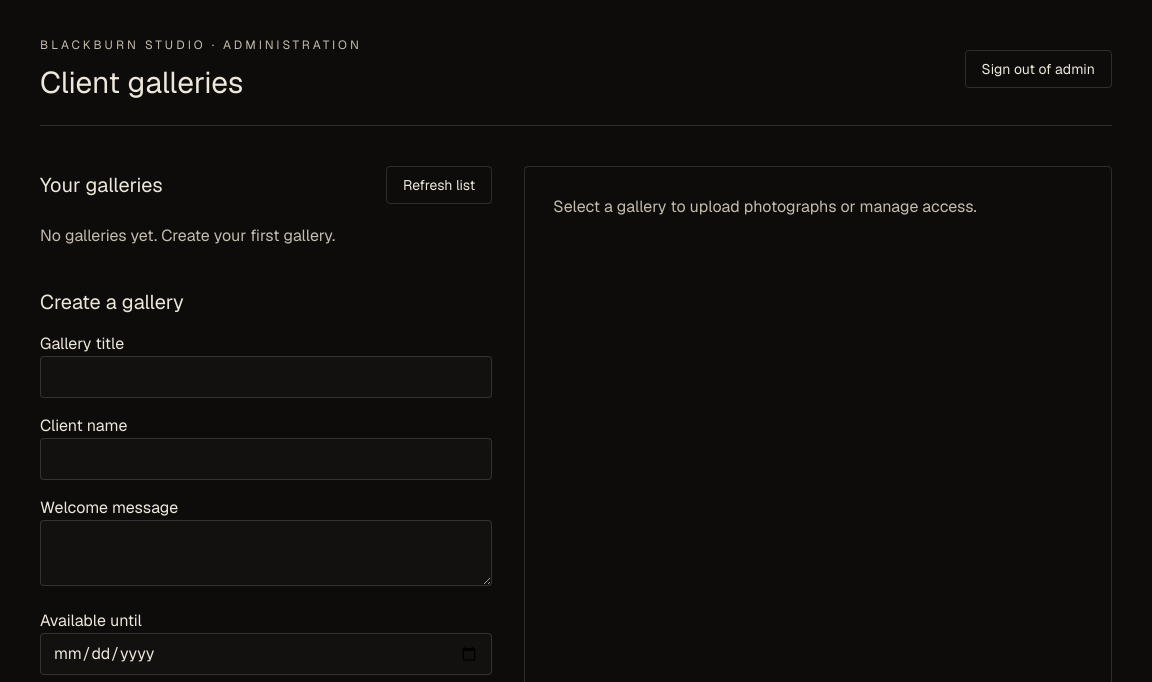
Scenario: copies independently of an API request and restores manual copying when clipboard permission stalls
Expected: the heading "Create a gallery" is shown, left=40, top=289, right=184, bottom=315
Type "Portraits" into the field labelled "Gallery title" at (266, 377), box left=40, top=356, right=492, bottom=398
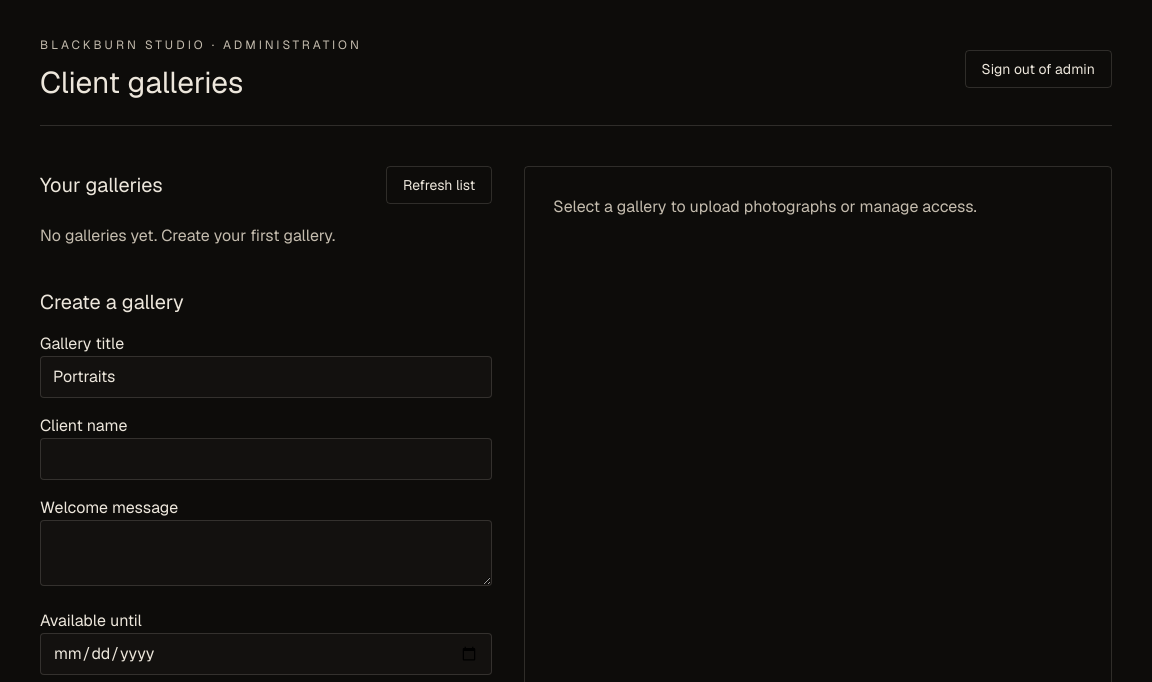
Type "2026-11-01" into the date field labelled "Available until" at (266, 654), box left=40, top=633, right=492, bottom=675
(page scrolled)
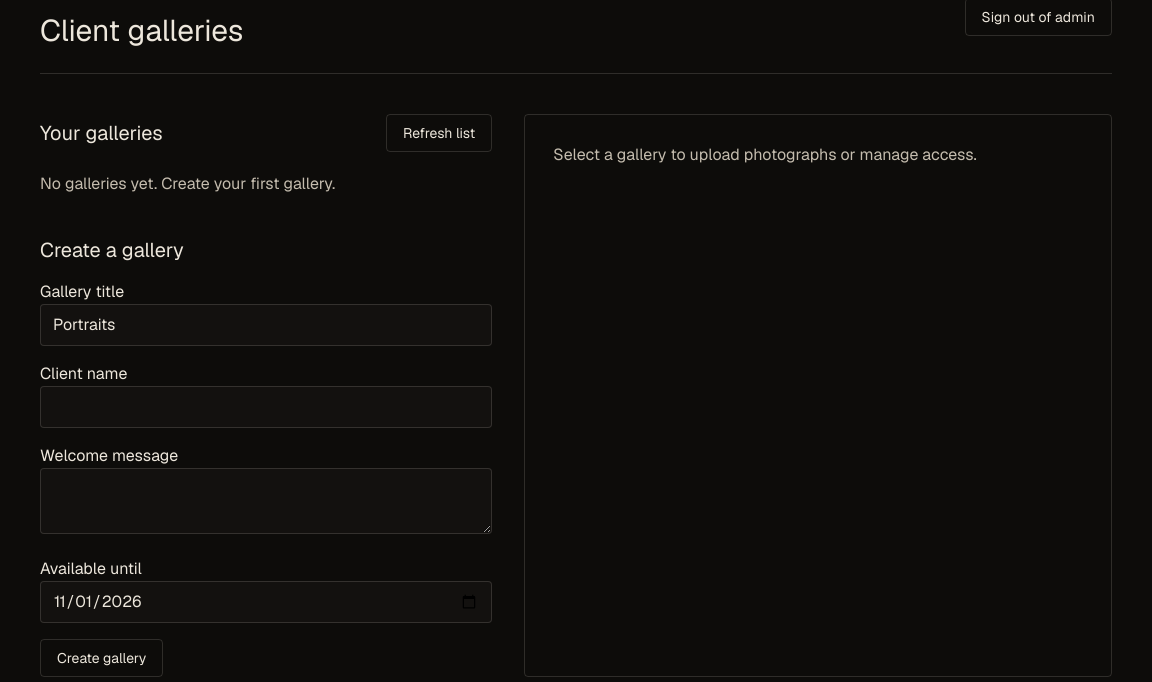
Click the button "Create gallery" at (102, 658), box left=40, top=639, right=163, bottom=677
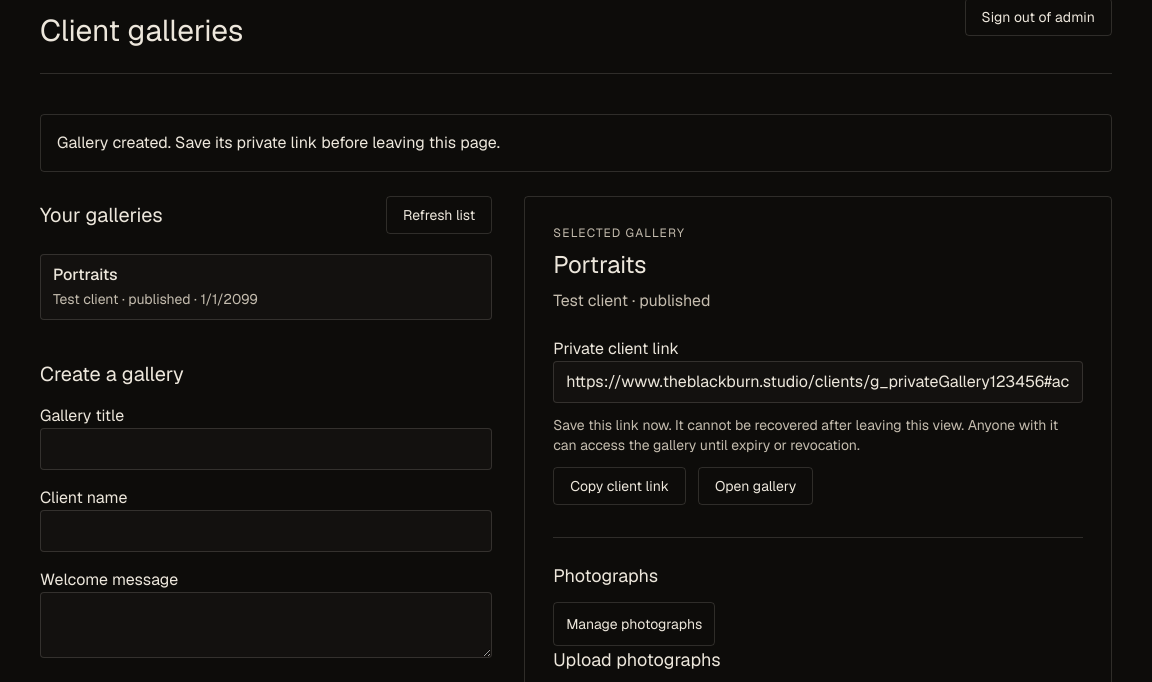
Now the field labelled "Private client link" is shown, box left=553, top=361, right=1083, bottom=403
Click the button "Refresh list" at (439, 215), box left=386, top=196, right=492, bottom=234
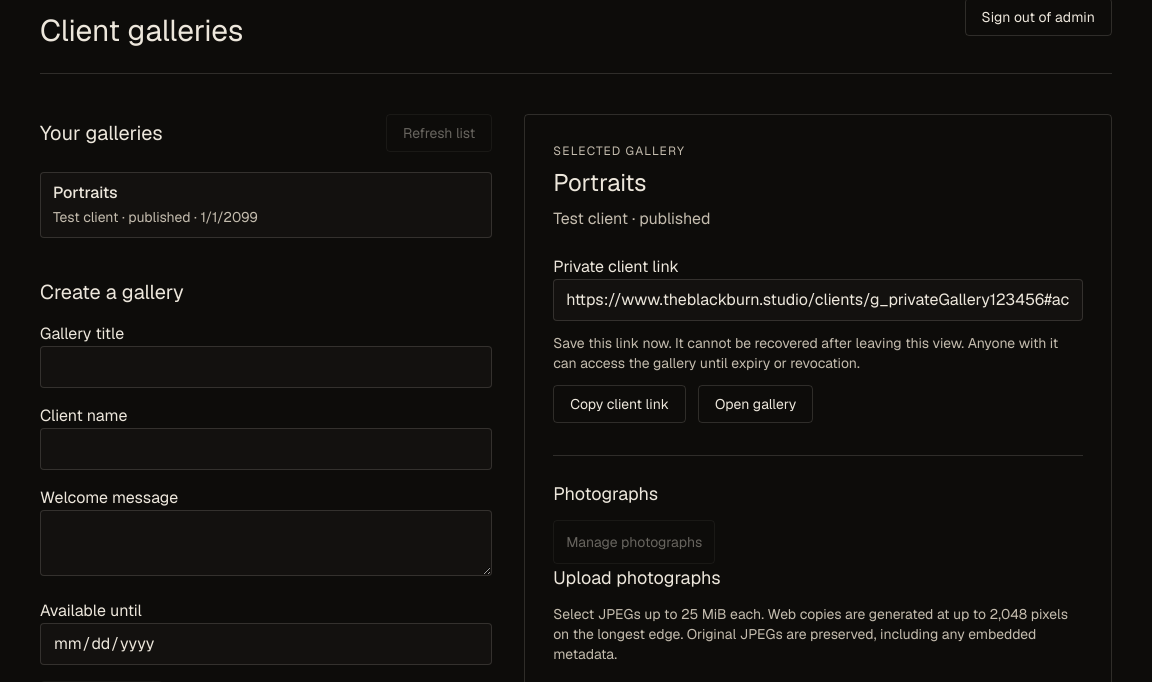
Now the button "Copy client link" is enabled
Now the button "Refresh list" is disabled, box left=386, top=114, right=492, bottom=152
Click the button "Copy client link" at (620, 404), box left=553, top=385, right=686, bottom=423
Wait 8000 ms
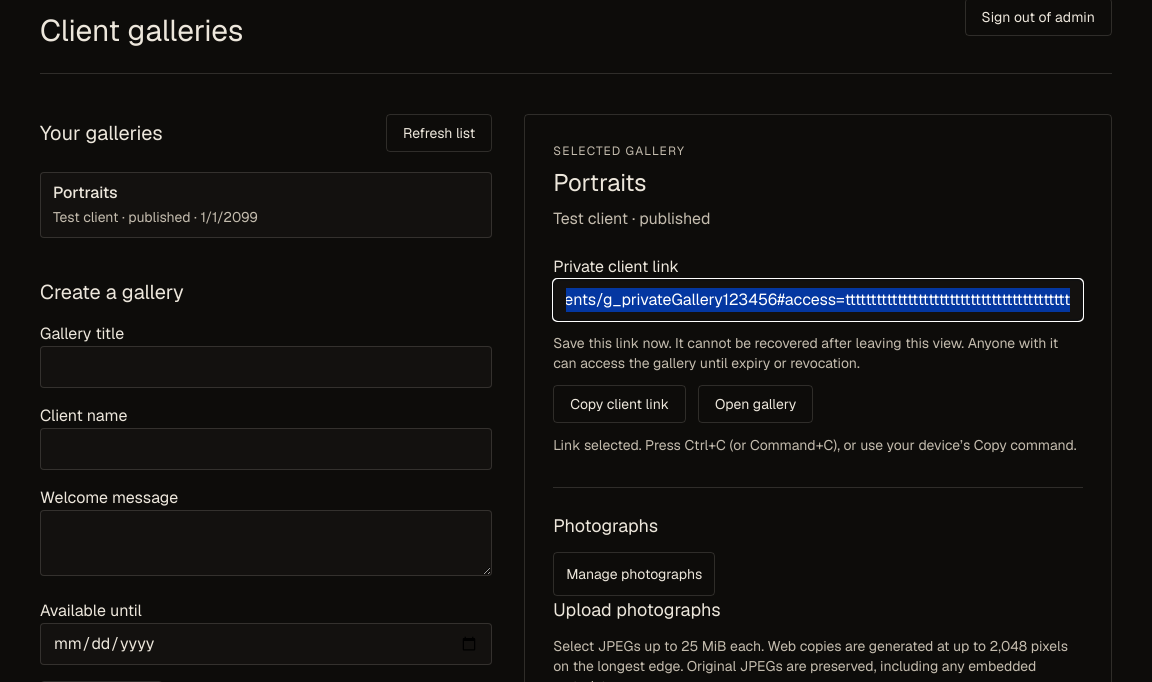
Now the button "Copy client link" is enabled, box left=553, top=385, right=686, bottom=423
Now the text "Link selected. Press Ctrl+C (or Command+C), or use your device’s Copy command." is shown, box left=553, top=435, right=1083, bottom=455
